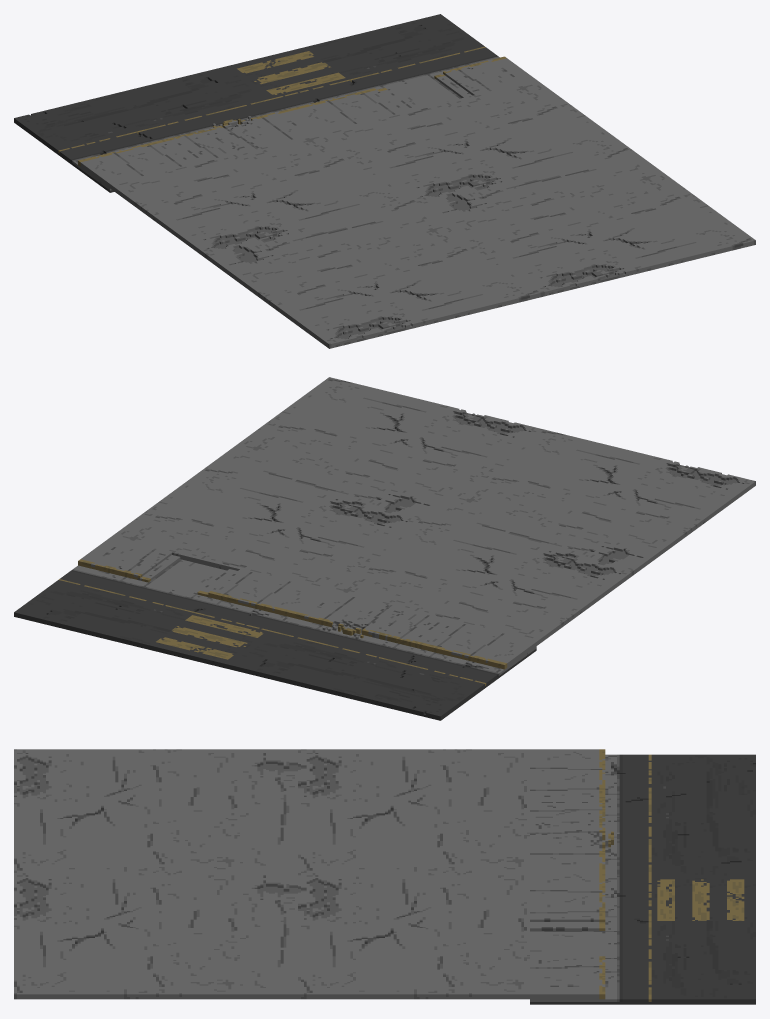
File: Shop-4-GroundTile.obj
The picture shows the model from 3 angles, top to bottom: view 1: azimuth 30°, elevation 25°; view 2: azimuth 150°, elevation 25°; view 3: azimuth 270°, elevation 25°; orthographic projection. The views are drawn at different scales.
Visible parts, largest first — view 1: GroundTile; view 2: GroundTile; view 3: GroundTile.
Part boxes in pixels (x1,y1,x2,y2): GroundTile: (14,14,755,348); GroundTile: (14,377,755,720); GroundTile: (14,749,755,1004).
Bounding box in the file's own units: 20 × 0.4 × 25.6.
1 material, 1 textured.
